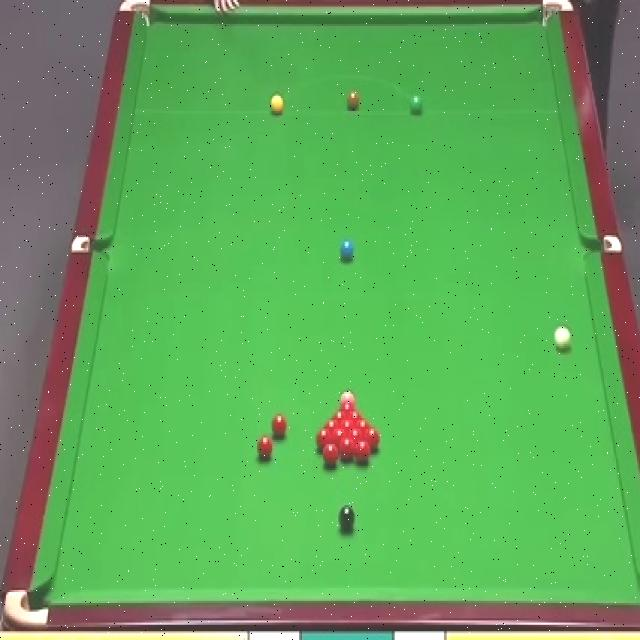black-ball: (337, 504, 354, 530)
blue-ball: (340, 240, 354, 259)
brown-ball: (347, 92, 359, 112)
green-ball: (408, 92, 424, 116)
pink-ball: (340, 391, 356, 407)
red-ball: (320, 442, 339, 467), (339, 436, 355, 461), (271, 414, 288, 437), (257, 435, 272, 460), (362, 427, 378, 450), (355, 441, 370, 464), (316, 428, 330, 451), (349, 429, 363, 451), (325, 419, 338, 432), (341, 404, 352, 417), (342, 420, 352, 434)
white-ball: (554, 325, 570, 352)
yellow-ball: (270, 94, 284, 115)
